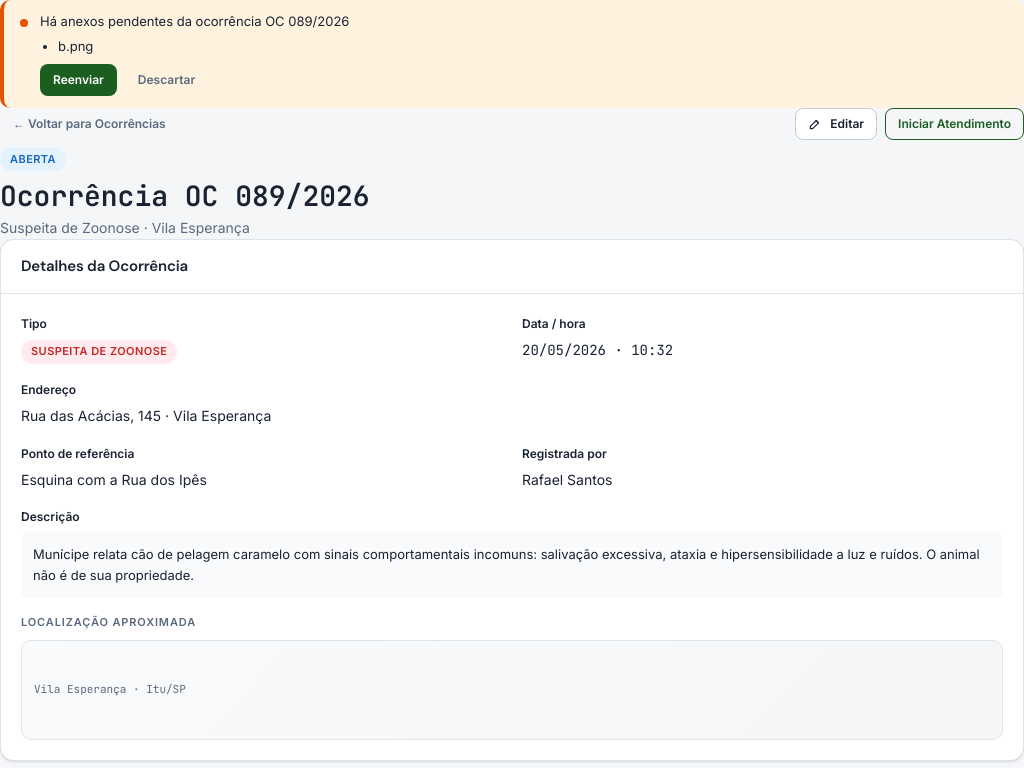
Scenario: aviso de anexos pendentes (D15) › no detalhe da ocorrência dona dos anexos: mostra o aviso e "Reenviar" sobe só o pendente
Click the button "Reenviar": (78, 80) [40, 64, 117, 96]
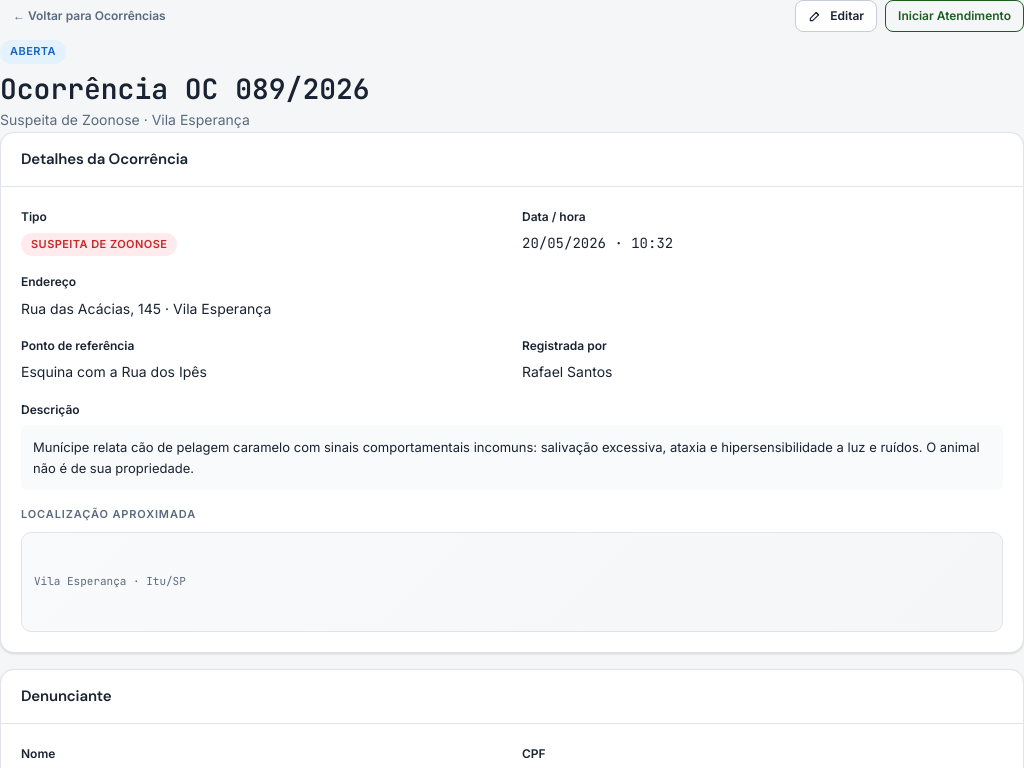
Expected: the text "Há anexos pendentes" is gone
